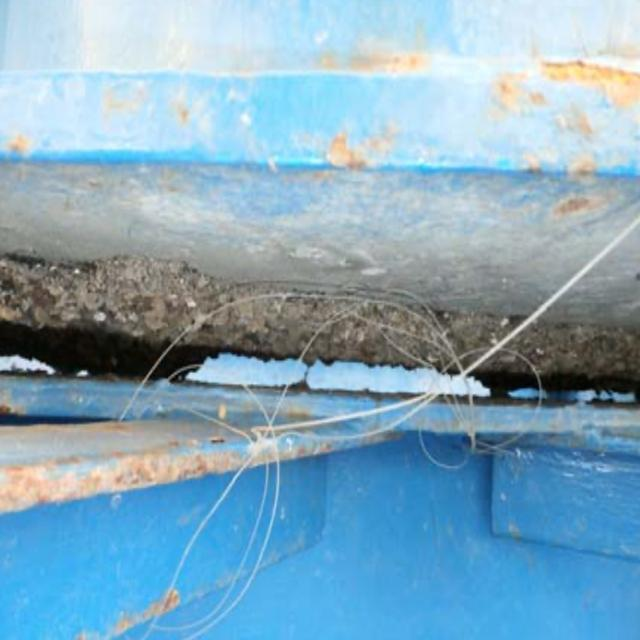corrosion: (120, 44, 630, 186)
